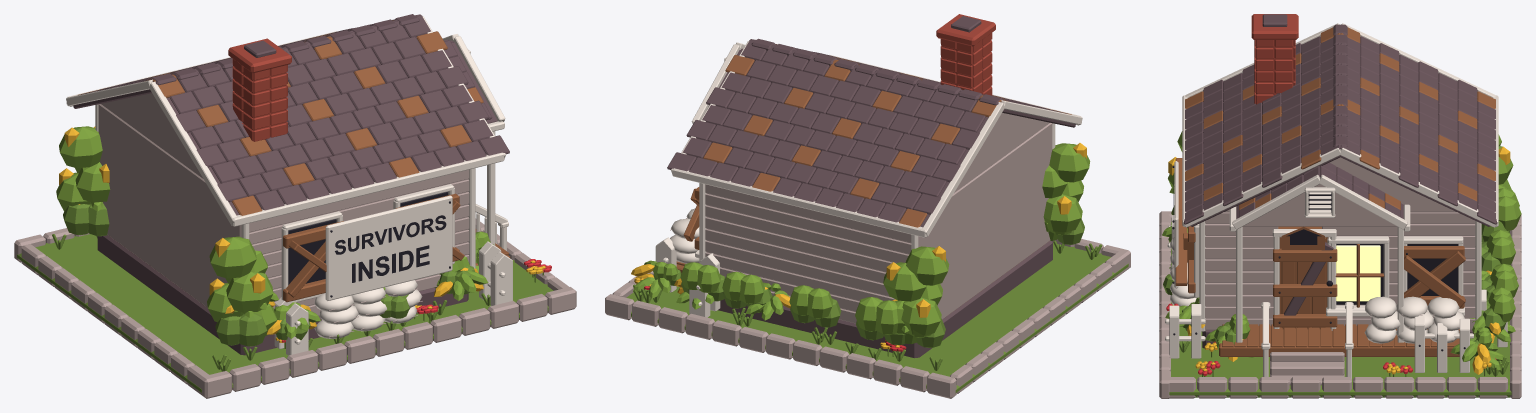
3 renders of one model, left to right at view 1: azimuth 30°, elevation 25°; view 2: azimuth 150°, elevation 25°; view 3: azimuth 270°, elevation 25°, orthographic. The views are drawn at different scales.
Parts seen in each view (by area): view 1: body_pal_sidewalk, roof_pal_asphalt, body_pal_picketWhite, body_pal_grass, body_pal_foliage, roof_pal_picketWhite, roof_pal_woodWarm, roof_pal_brick, body_pal_asphalt, body_pal_uiDark, body_pal_woodWarm, body_pal_schoolBusYellow; view 2: body_pal_sidewalk, roof_pal_asphalt, body_pal_grass, body_pal_foliage, roof_pal_woodWarm, roof_pal_picketWhite, body_pal_asphalt, roof_pal_brick, body_pal_picketWhite, body_pal_schoolBusYellow, body_pal_woodWarm; view 3: roof_pal_asphalt, body_pal_sidewalk, body_pal_picketWhite, body_pal_woodWarm, body_pal_grass, roof_pal_picketWhite, roof_pal_woodWarm, body_pal_foliage, door_front_pal_woodWarm, roof_pal_brick, window_front, body_pal_uiDark (+3 smaller).
Boxes of the visible parts, x1,y1,x2,y2 form: body_pal_sidewalk: [14, 93, 576, 398]; roof_pal_asphalt: [73, 14, 509, 215]; body_pal_picketWhite: [95, 49, 512, 355]; body_pal_grass: [17, 203, 553, 392]; body_pal_foliage: [56, 126, 490, 338]; roof_pal_picketWhite: [66, 16, 505, 226]; roof_pal_woodWarm: [78, 20, 483, 215]; roof_pal_brick: [228, 38, 291, 144]; body_pal_asphalt: [97, 235, 468, 355]; body_pal_uiDark: [288, 192, 450, 297]; body_pal_woodWarm: [283, 193, 510, 302]; body_pal_schoolBusYellow: [59, 126, 545, 342]; body_pal_sidewalk: [605, 113, 1130, 398]; roof_pal_asphalt: [667, 16, 1075, 227]; body_pal_grass: [626, 219, 1128, 392]; body_pal_foliage: [633, 143, 1090, 344]; roof_pal_woodWarm: [703, 44, 1071, 227]; roof_pal_picketWhite: [671, 39, 1082, 237]; body_pal_asphalt: [718, 240, 1052, 358]; roof_pal_brick: [936, 14, 995, 95]; body_pal_picketWhite: [655, 57, 1055, 317]; body_pal_schoolBusYellow: [631, 143, 1086, 349]; body_pal_woodWarm: [676, 187, 699, 272]; roof_pal_asphalt: [1184, 14, 1496, 226]; body_pal_sidewalk: [1159, 157, 1521, 398]; body_pal_picketWhite: [1165, 161, 1510, 378]; body_pal_woodWarm: [1175, 158, 1465, 356]; body_pal_grass: [1163, 205, 1511, 397]; roof_pal_picketWhite: [1182, 23, 1498, 231]; roof_pal_woodWarm: [1185, 27, 1495, 210]; body_pal_foliage: [1162, 131, 1521, 370]; door_front_pal_woodWarm: [1273, 237, 1337, 329]; roof_pal_brick: [1251, 14, 1298, 104]; window_front: [1336, 245, 1380, 301]; body_pal_uiDark: [1172, 166, 1465, 351].
Bounding box in the file's own units: 7.92 × 5.69 × 7.09.
